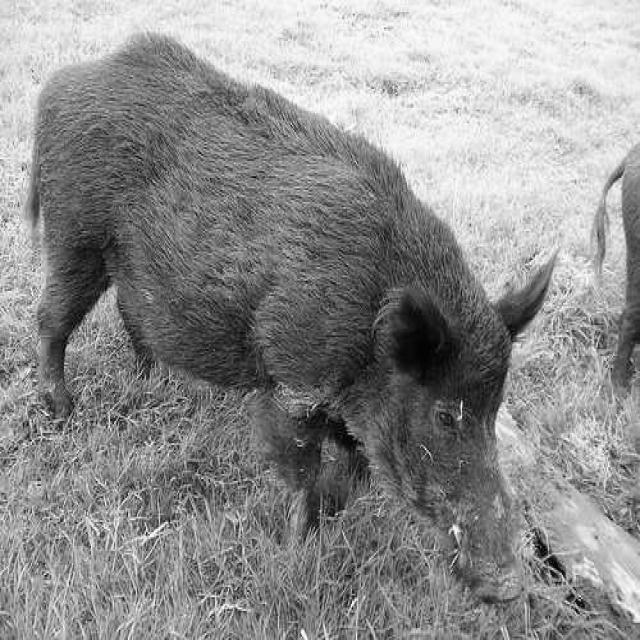boar: (28, 34, 552, 597)
